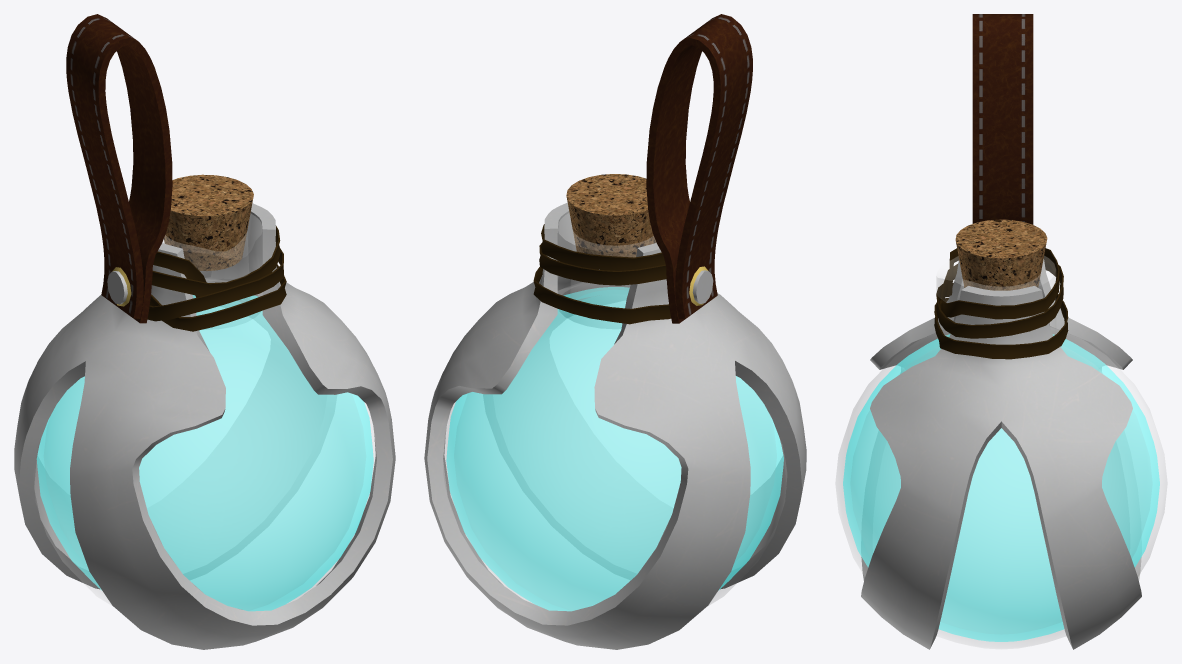
The model's file is mana_potion.glb.
3 renders of one model, left to right at view 1: azimuth 30°, elevation 25°; view 2: azimuth 150°, elevation 25°; view 3: azimuth 270°, elevation 25°, orthographic. The views are drawn at different scales.
Visible parts, largest first — view 1: CarcasaOriginal_7, Sphere_3, Icosphere_0, Plane_5, Cork_4, COrd1_9; view 2: CarcasaOriginal_7, Sphere_3, Icosphere_0, Plane_5, Cork_4, COrd1_9; view 3: CarcasaOriginal_7, Sphere_3, Icosphere_0, Plane_5, COrd1_9, Cork_4.
Boxes of the visible parts, x1,y1,x2,y2 form: CarcasaOriginal_7: [14, 203, 395, 649]; Sphere_3: [33, 214, 376, 610]; Icosphere_0: [36, 295, 373, 611]; Plane_5: [66, 14, 172, 323]; Cork_4: [164, 174, 253, 271]; COrd1_9: [147, 226, 286, 331]; CarcasaOriginal_7: [424, 202, 806, 649]; Sphere_3: [443, 213, 786, 610]; Icosphere_0: [446, 287, 783, 611]; Plane_5: [646, 14, 752, 323]; Cork_4: [566, 174, 655, 257]; COrd1_9: [533, 224, 671, 324]; CarcasaOriginal_7: [861, 259, 1141, 649]; Sphere_3: [835, 256, 1167, 648]; Icosphere_0: [843, 334, 1159, 641]; Plane_5: [972, 14, 1033, 224]; COrd1_9: [934, 248, 1068, 359]; Cork_4: [955, 219, 1047, 290].
Size of the model in its own units: 2.05 by 3.78 by 1.98.
7 materials, 3 textured.
